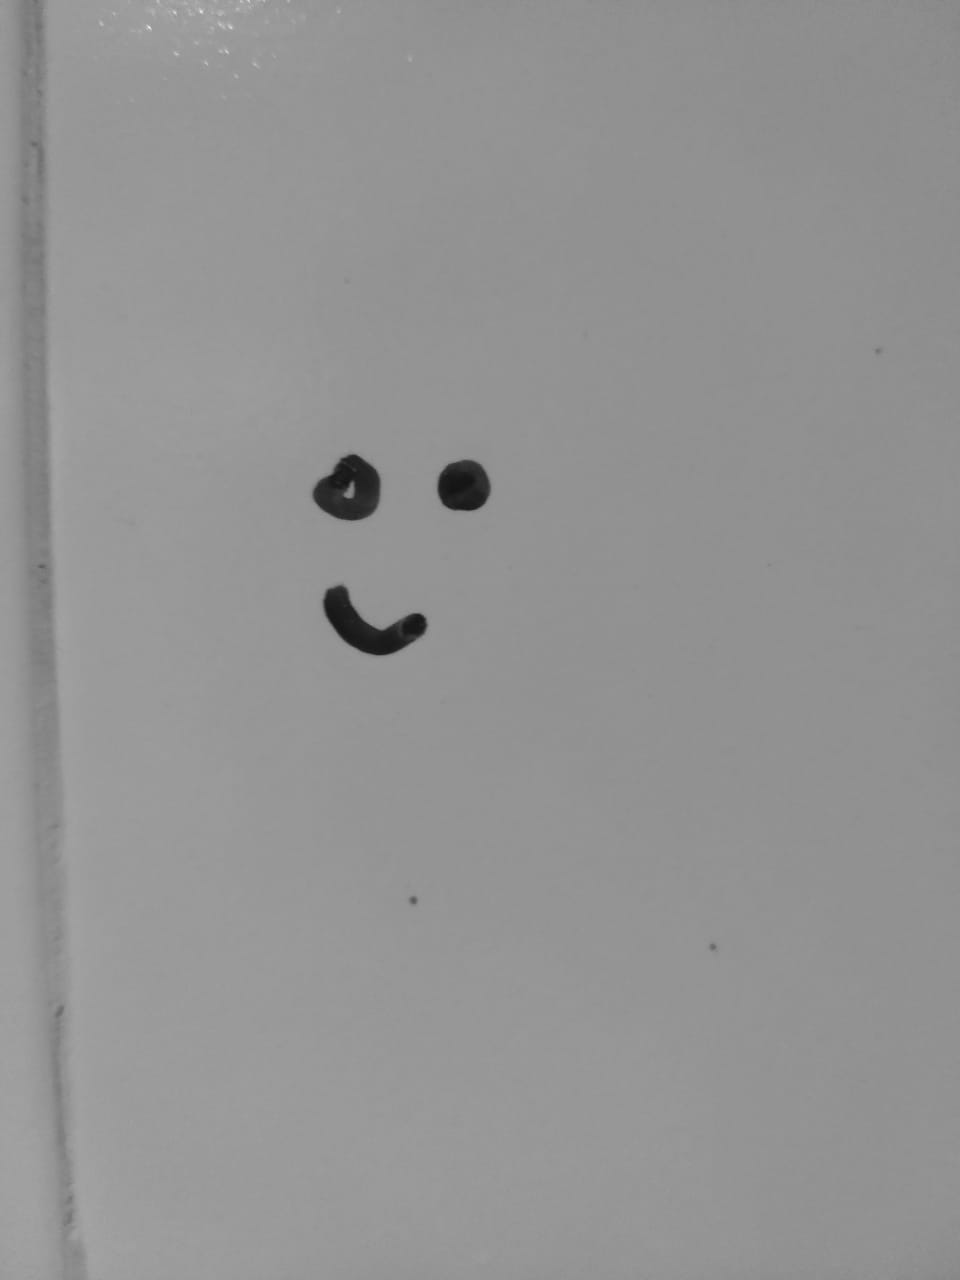feliz: (235, 392, 518, 694)
